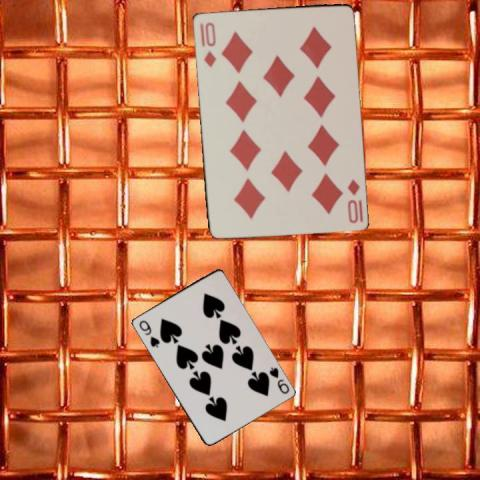10d: (344, 176, 364, 224), (201, 19, 217, 68)
9s: (135, 317, 161, 349), (266, 364, 291, 395)
